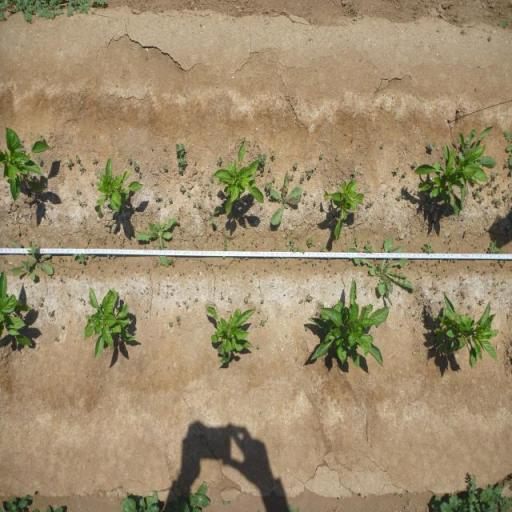plant: (309, 275, 392, 372), (430, 292, 502, 372), (413, 146, 480, 220), (0, 124, 53, 207), (84, 286, 138, 362), (215, 141, 265, 217), (89, 156, 144, 220), (0, 269, 38, 351), (205, 306, 254, 365), (322, 178, 365, 241)
weed: (345, 234, 417, 306), (432, 470, 512, 512), (0, 0, 109, 23), (266, 170, 303, 228), (137, 218, 179, 268), (10, 239, 55, 276), (176, 481, 213, 512), (120, 488, 162, 512), (0, 494, 35, 512), (502, 128, 512, 178), (175, 142, 190, 166), (12, 267, 36, 282), (208, 204, 222, 226), (489, 239, 504, 253), (496, 16, 511, 30), (422, 241, 436, 254), (72, 252, 87, 264), (222, 236, 228, 260), (492, 182, 501, 196), (498, 258, 508, 270), (264, 182, 272, 196), (306, 236, 315, 248), (492, 198, 502, 208), (285, 237, 295, 247), (258, 154, 268, 164), (472, 188, 481, 198), (366, 200, 375, 210), (364, 244, 374, 253), (78, 162, 86, 173), (221, 498, 232, 506), (427, 142, 435, 152), (78, 198, 86, 208), (133, 160, 140, 171), (66, 158, 74, 167), (78, 297, 86, 306), (48, 309, 56, 318), (492, 170, 499, 180), (352, 236, 359, 246), (168, 257, 175, 267), (216, 156, 223, 166), (1, 256, 8, 266), (425, 260, 430, 273), (487, 178, 493, 188), (448, 258, 458, 264), (463, 228, 469, 238), (180, 184, 186, 194), (207, 190, 212, 202), (300, 174, 306, 184), (75, 154, 81, 164), (402, 184, 409, 192), (289, 246, 297, 253), (396, 194, 405, 200), (153, 259, 159, 268), (58, 256, 67, 262), (176, 316, 181, 326), (259, 166, 264, 176), (91, 158, 98, 165), (411, 160, 417, 168), (478, 298, 484, 306), (259, 319, 265, 327), (167, 197, 173, 205), (178, 165, 184, 173), (86, 235, 92, 243), (435, 286, 440, 295), (392, 167, 399, 173), (306, 296, 313, 302), (350, 169, 356, 176), (252, 270, 259, 276), (219, 295, 225, 302), (288, 174, 294, 181), (318, 153, 324, 160), (326, 256, 331, 264), (228, 296, 233, 304), (293, 162, 298, 170), (307, 170, 312, 178), (127, 158, 132, 166), (37, 156, 42, 164), (421, 313, 426, 321), (504, 193, 510, 199), (479, 198, 485, 204), (410, 258, 416, 264), (298, 298, 304, 304), (320, 246, 326, 252), (312, 260, 318, 266), (246, 292, 252, 298), (168, 322, 174, 328), (270, 151, 276, 157), (154, 196, 160, 202), (38, 301, 44, 307), (54, 336, 60, 342), (58, 276, 64, 282), (481, 183, 486, 190), (491, 261, 498, 266), (448, 237, 453, 244), (304, 325, 309, 332), (241, 136, 246, 143), (40, 134, 45, 141), (210, 176, 214, 184), (138, 170, 142, 178), (178, 226, 182, 234), (402, 171, 408, 176), (300, 248, 305, 254), (260, 298, 265, 304), (197, 202, 202, 208), (90, 254, 96, 259), (28, 240, 33, 246), (421, 292, 426, 298), (329, 261, 333, 268), (256, 343, 260, 350), (244, 297, 248, 304), (157, 205, 161, 212), (380, 144, 385, 149), (182, 300, 187, 305), (112, 254, 117, 259), (392, 186, 396, 192), (436, 272, 440, 278), (367, 238, 371, 244), (438, 258, 442, 264), (296, 246, 300, 252), (186, 304, 190, 310), (187, 190, 190, 198), (304, 190, 308, 196), (301, 199, 305, 205), (164, 164, 168, 170), (60, 326, 66, 330), (60, 244, 66, 248), (415, 189, 418, 196), (78, 188, 81, 195), (222, 270, 226, 275), (195, 297, 199, 302), (272, 177, 276, 182), (170, 292, 174, 297), (156, 291, 160, 296), (335, 270, 338, 276), (286, 258, 289, 264), (232, 240, 235, 246), (123, 264, 126, 270), (97, 263, 100, 269), (80, 268, 83, 274), (196, 286, 199, 292), (40, 296, 44, 300), (106, 254, 110, 258), (145, 310, 149, 314), (384, 191, 387, 196), (305, 259, 308, 264), (288, 265, 291, 270), (268, 167, 271, 172), (260, 205, 263, 210), (300, 256, 302, 262), (296, 356, 298, 362), (194, 202, 196, 208), (306, 200, 308, 206), (314, 200, 316, 206), (206, 264, 208, 270), (90, 181, 94, 184), (246, 256, 248, 262), (176, 300, 178, 306), (258, 309, 260, 314), (148, 268, 150, 273), (277, 263, 280, 266), (469, 264, 471, 268), (250, 280, 252, 284), (274, 259, 276, 263), (226, 265, 228, 269), (152, 146, 154, 150), (431, 270, 433, 273), (298, 268, 301, 270), (264, 268, 266, 271)
